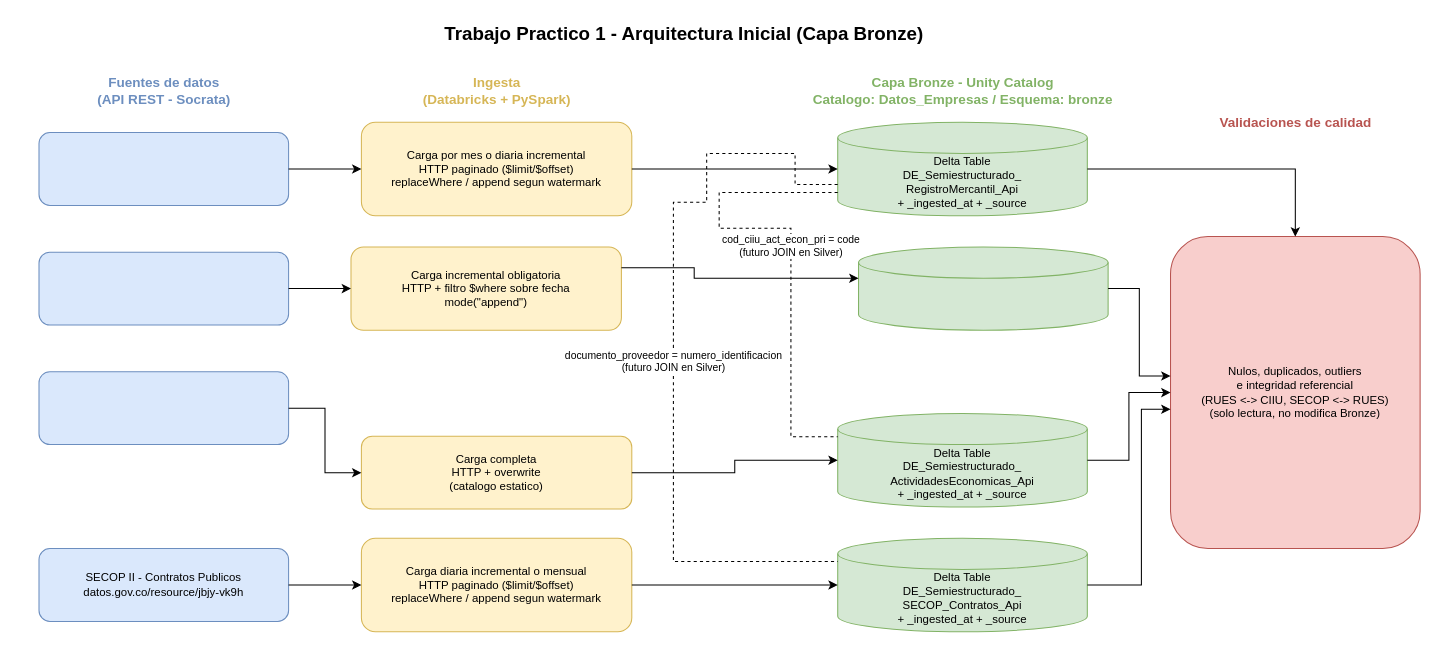
Some shapes in this 1438 by 650 pixel diagram are drawn without their labels. The box of each missing label's shape, as (x1, y1, x2, y2) in pixels:
Catalogo CIIU datos.gov.co/resource/nuke-fusu: (38, 371, 289, 445)
Delta Table DE_Semiestructurado_ TasaCambio_Api + _ingested_at + _source: (857, 246, 1108, 330)
RUES - Registro Mercantil datos.gov.co/resource/c82u-588k: (38, 132, 289, 205)
TRM - Tasa de Cambio datos.gov.co/resource/mcec-87by: (38, 251, 289, 325)
